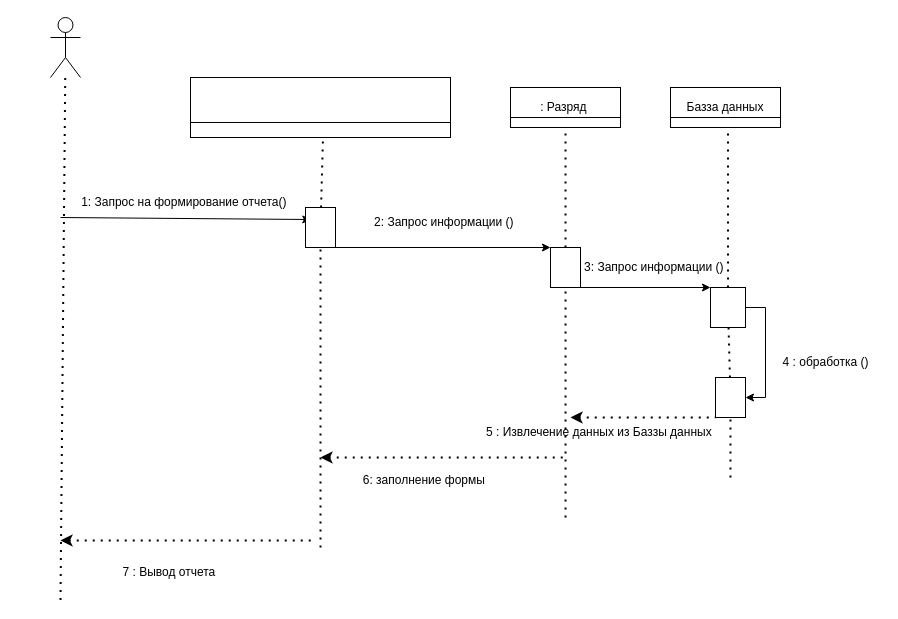
The diagram is 898 pixels wide and 619 high, and some of its shapes have lost their labels. Each missing label, with the centre of its shape:
": начальник цеха" belongs at [65,47].
"формирование отчета со списком разрядов" belongs at [320,107].
